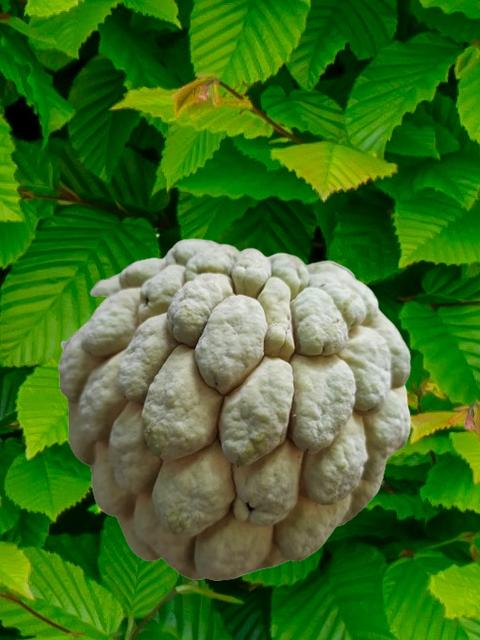atis: (57, 238, 410, 579)
